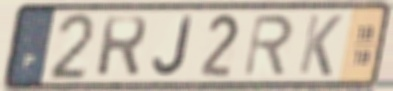2: (47, 11, 97, 83), (198, 12, 241, 80)
J: (150, 14, 195, 79)
K: (296, 12, 345, 79)
R: (241, 12, 296, 79), (94, 14, 150, 79)
